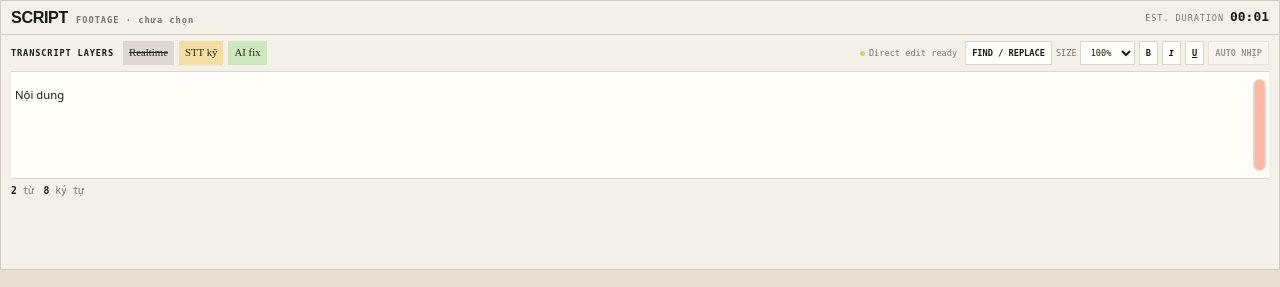
Test case: ScriptEditor › opens Word-style find and replace controls
Click the button "FIND / REPLACE": {"x": 1009, "y": 53} [965,41,1052,65]
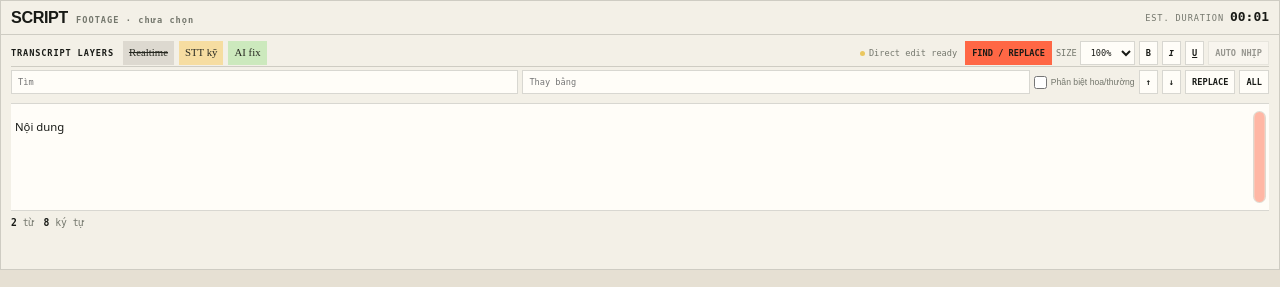
expect the field named "Tìm text" is shown: met, box [11,70,518,94]
expect the field named "Thay bằng text" is shown: met, box [522,70,1030,94]
